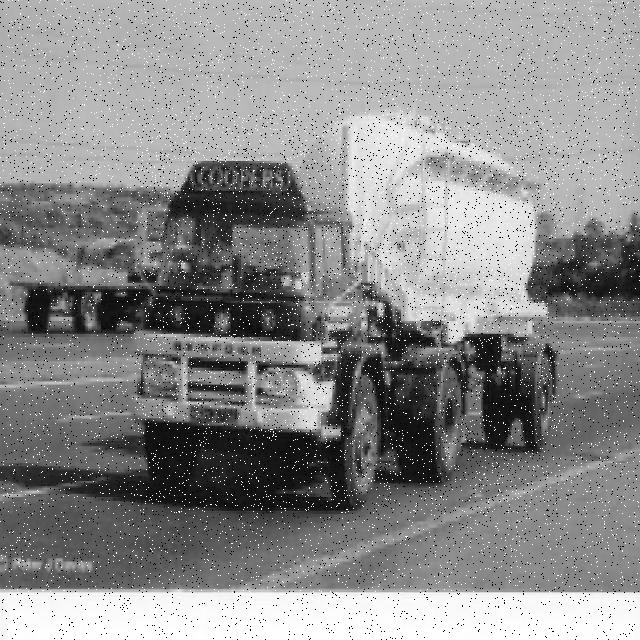Box Truck: (134, 115, 557, 512)
